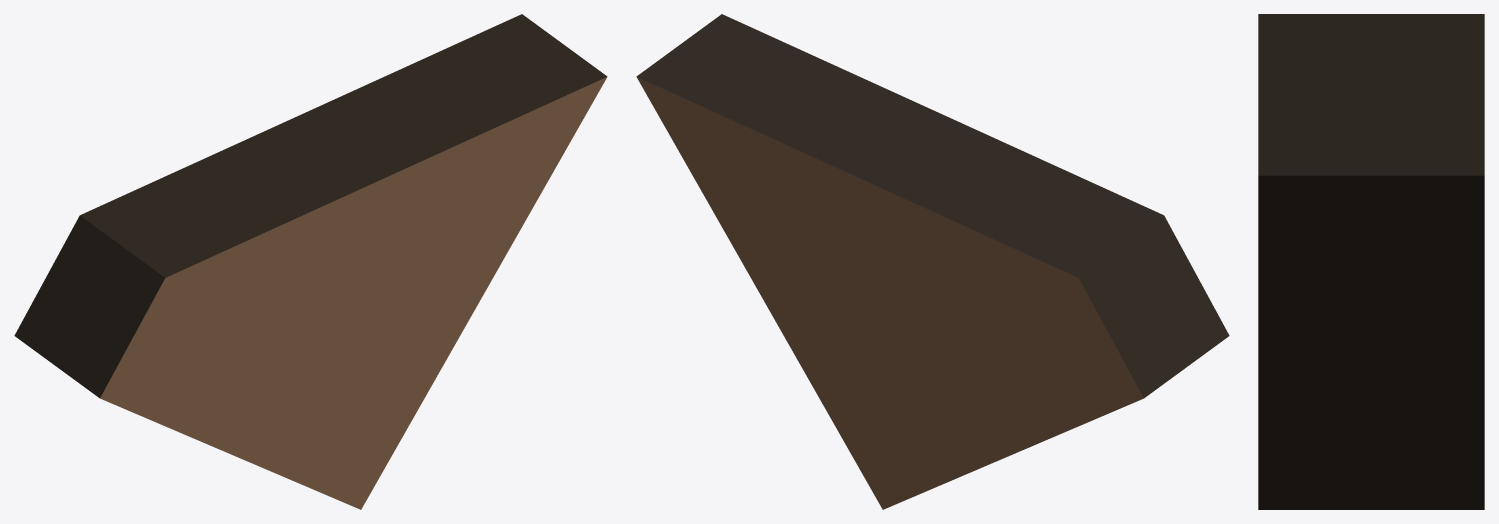
File: SM_DoorShard_02_25.fbx
3 renders of one model, left to right at view 1: azimuth 30°, elevation 25°; view 2: azimuth 150°, elevation 25°; view 3: azimuth 270°, elevation 25°, orthographic. The views are drawn at different scales.
Visible parts, largest first — view 1: SM_DoorShard_02_25; view 2: SM_DoorShard_02_25; view 3: SM_DoorShard_02_25.
Boxes of the visible parts, x1,y1,x2,y2 form: SM_DoorShard_02_25: (14,14,607,509); SM_DoorShard_02_25: (636,14,1229,509); SM_DoorShard_02_25: (1258,14,1484,509).
Size of the model in its own units: 54.8 by 16 by 38.49.
